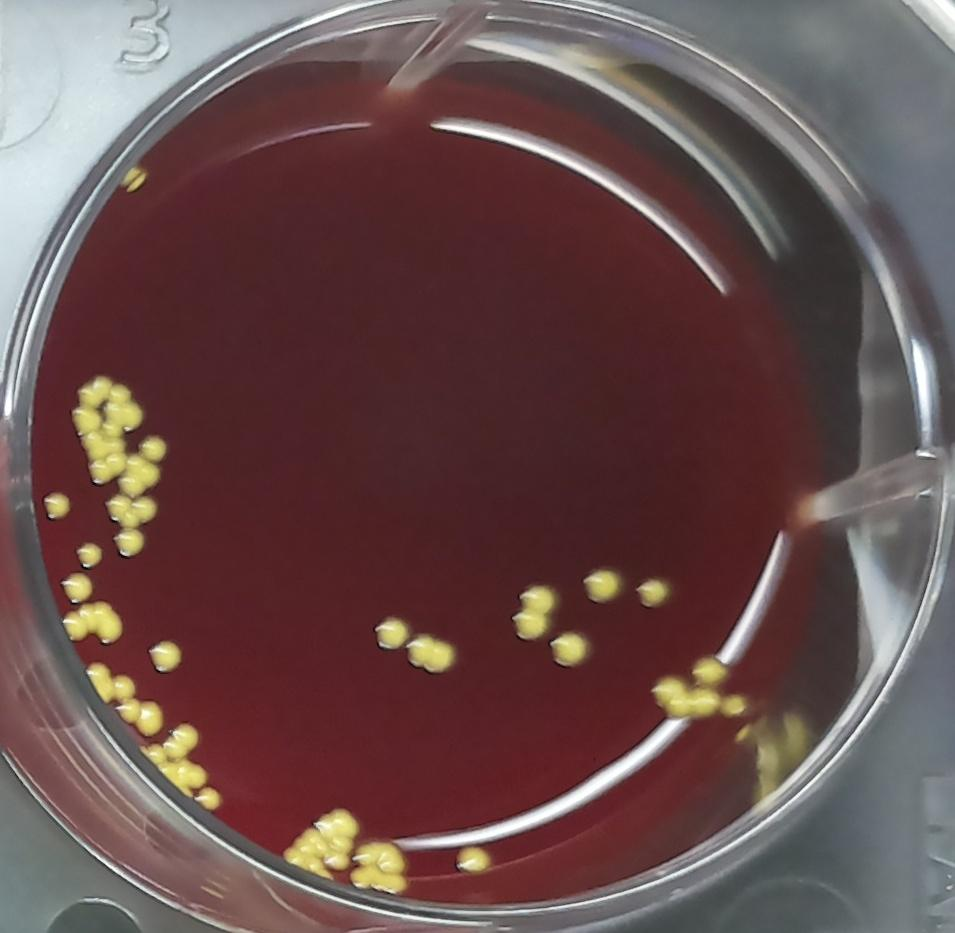mluteus: (66, 377, 143, 487), (351, 836, 410, 894), (62, 599, 127, 649), (280, 823, 330, 878), (317, 809, 362, 869), (512, 583, 556, 643), (408, 630, 457, 677), (103, 492, 160, 529), (117, 452, 164, 492), (119, 696, 164, 736), (653, 677, 691, 721), (548, 631, 591, 669), (580, 567, 621, 606), (146, 636, 184, 674), (633, 573, 670, 612), (165, 722, 201, 762), (691, 653, 728, 687), (375, 616, 410, 651), (59, 571, 95, 605), (454, 846, 493, 877), (692, 686, 725, 722), (40, 491, 74, 523), (113, 527, 146, 559), (116, 165, 151, 195), (138, 433, 170, 462), (76, 541, 106, 571), (111, 671, 137, 702), (195, 787, 224, 812), (725, 693, 750, 719)
